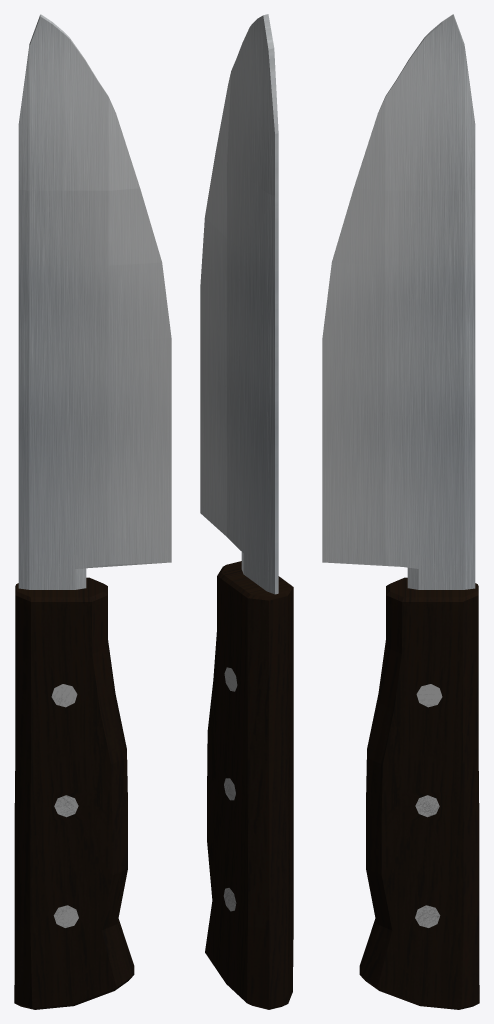
3 views of the same model, side by side, from view 1: azimuth 90°, elevation 25°; view 2: azimuth 210°, elevation 25°; view 3: azimuth 270°, elevation 25° (orthographic).
Visible parts, largest first — view 1: 식칼; view 2: 식칼; view 3: 식칼.
Boxes of the visible parts, box(x1,y1,x2,y2) form: 식칼: box(14, 14, 171, 1009); 식칼: box(200, 14, 293, 1009); 식칼: box(322, 14, 479, 1009).
Size of the model in its own units: 1.42 by 29.19 by 4.21.
